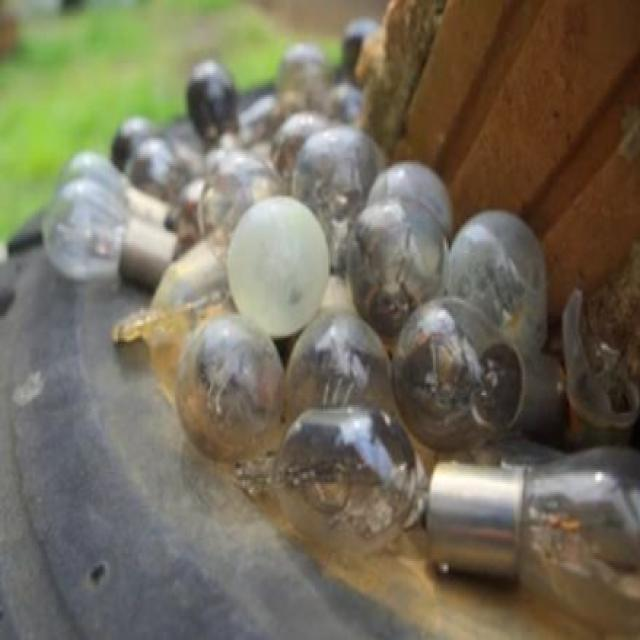electronic: (42, 14, 639, 638), (422, 441, 638, 636), (270, 401, 424, 553), (224, 194, 330, 338)
